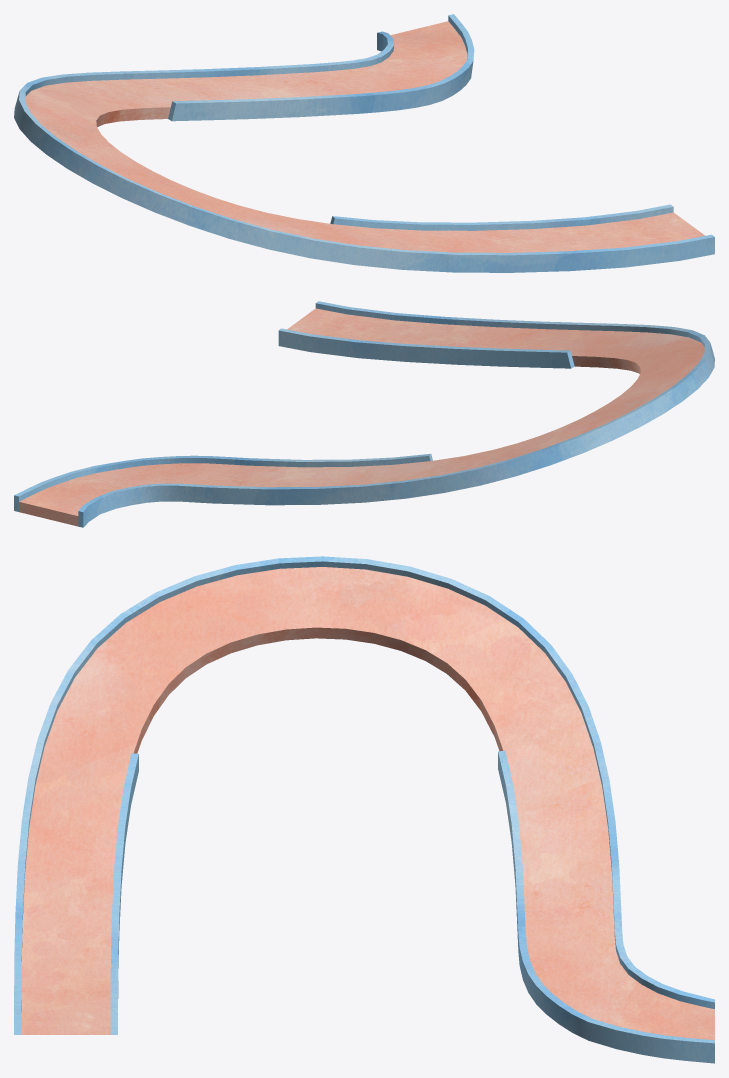
Rendered from Stage_slant4.fbx.
3 views of the same model, one above another, from view 1: azimuth 30°, elevation 25°; view 2: azimuth 150°, elevation 25°; view 3: azimuth 270°, elevation 25° (orthographic). The views are drawn at different scales.
Parts seen in each view (by area): view 1: Stage_slant_007, Stage_slant_008; view 2: Stage_slant_008, Stage_slant_007; view 3: Stage_slant_007, Stage_slant_008.
Boxes of the visible parts, bbox=[...] form: Stage_slant_007: bbox=[25, 21, 705, 252]; Stage_slant_008: bbox=[14, 14, 714, 272]; Stage_slant_008: bbox=[14, 301, 714, 527]; Stage_slant_007: bbox=[19, 308, 704, 526]; Stage_slant_007: bbox=[21, 567, 714, 1040]; Stage_slant_008: bbox=[14, 556, 714, 1063].
Size of the model in its own units: 6273 by 1622 by 5664.
